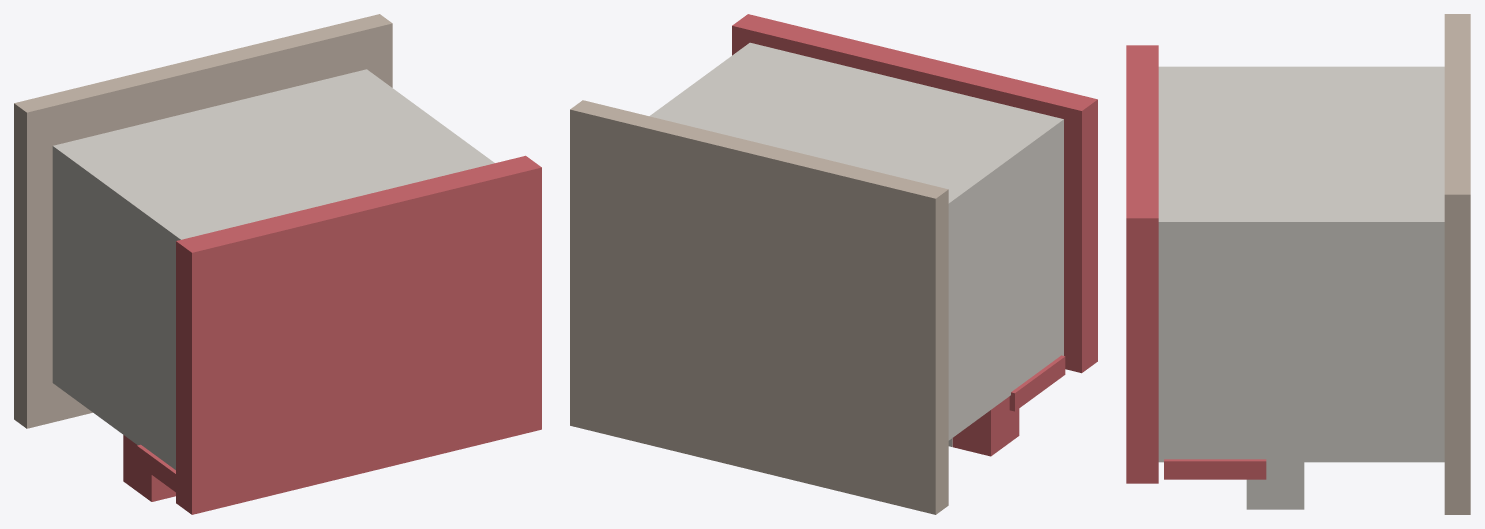
Rendered from restaurant_lod2.glb.
The picture shows the model from 3 angles, left to right: view 1: azimuth 30°, elevation 25°; view 2: azimuth 150°, elevation 25°; view 3: azimuth 270°, elevation 25°; orthographic projection.
Visible parts, largest first — view 1: roof_2, walls_1, plinth_0, awning_5, signboard_3; view 2: plinth_0, walls_1, roof_2, awning_5, signboard_3; view 3: walls_1, roof_2, plinth_0, awning_12, signboard_3.
Boxes of the visible parts, x1,y1,x2,y2 form: roof_2: (176,155,541,514); walls_1: (52,69,494,469); plinth_0: (14,14,392,428); awning_5: (123,435,175,501); signboard_3: (137,444,175,492); plinth_0: (570,100,948,514); walls_1: (649,42,1063,440); roof_2: (732,14,1097,373); awning_5: (952,396,1019,456); signboard_3: (1009,355,1065,411); walls_1: (1158,66,1444,462); roof_2: (1126,45,1158,483); plinth_0: (1444,14,1470,514); awning_12: (1246,462,1304,509); signboard_3: (1164,459,1266,479).
Bounding box in the file's own units: 4.6 × 3.9 × 3.7.
